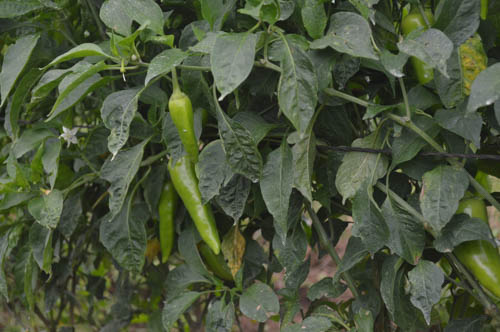ChiliPepper: (172, 157, 220, 255), (454, 196, 500, 294), (401, 14, 437, 81), (168, 97, 202, 158), (155, 185, 176, 266)
